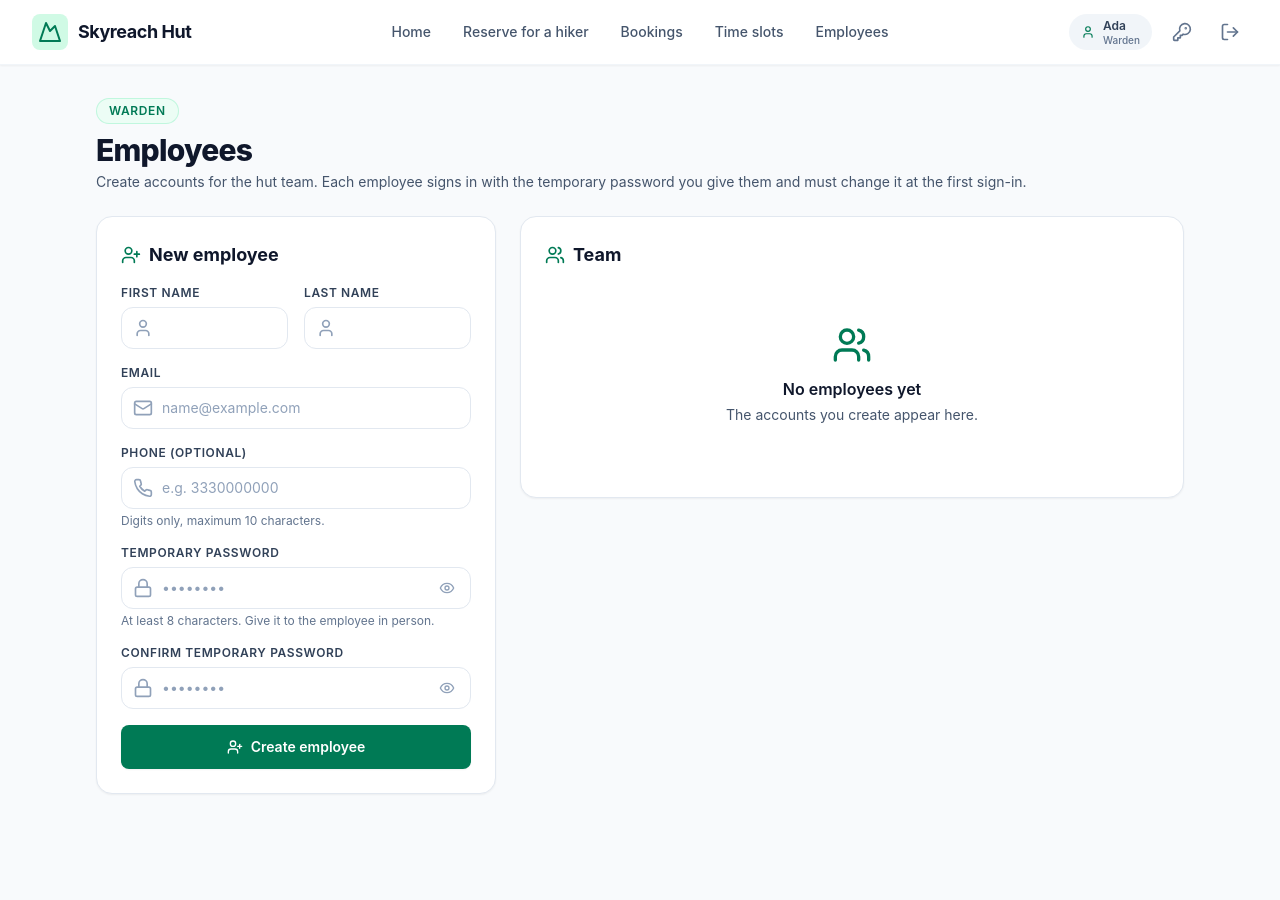
Scenario: creates an employee with trimmed fields and no hiker-only or empty phone fields
Type " Ada " into the field labelled "First name" at (204, 328), box [121, 307, 288, 349]
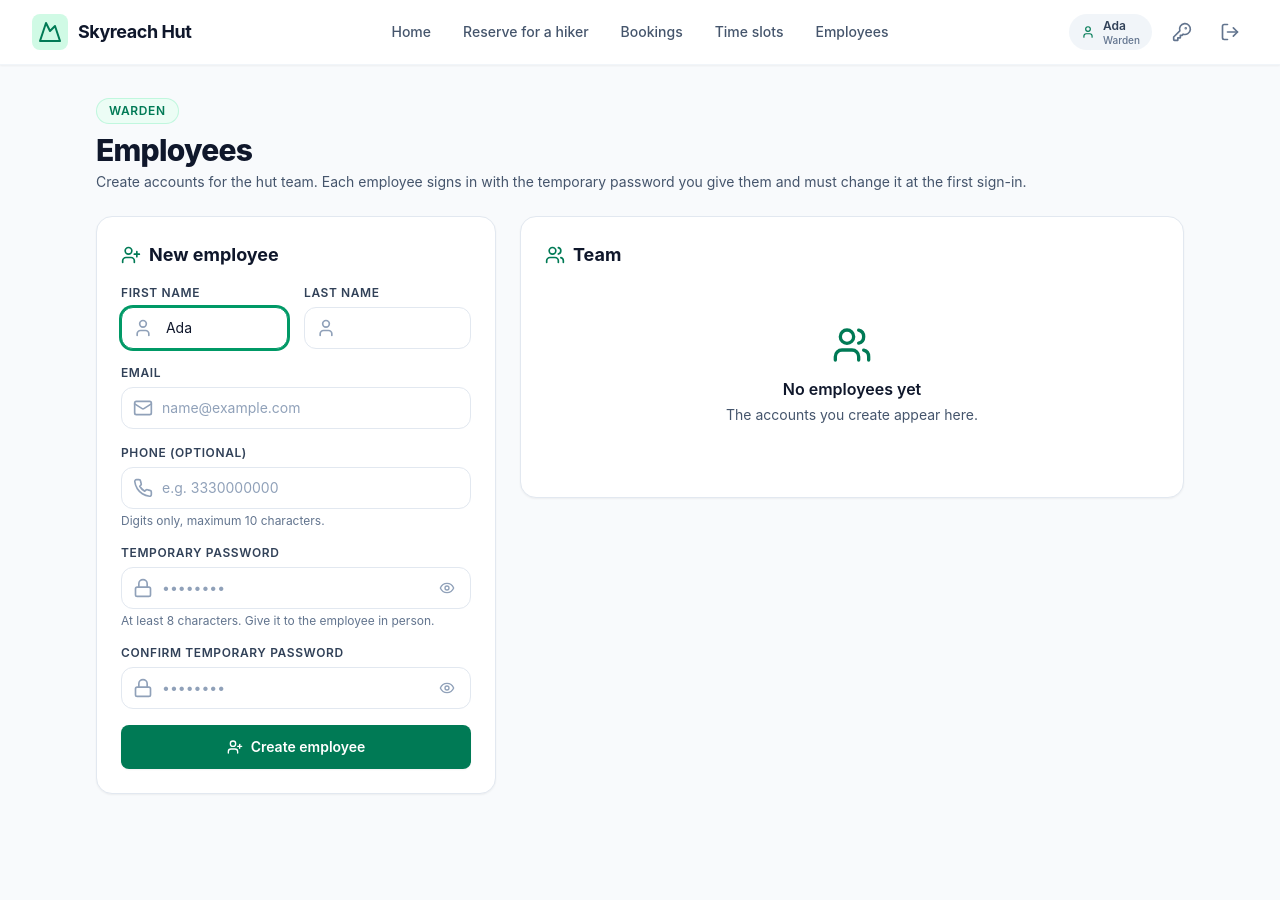
Type " Lovelace " into the field labelled "Last name" at (388, 328), box [304, 307, 471, 349]
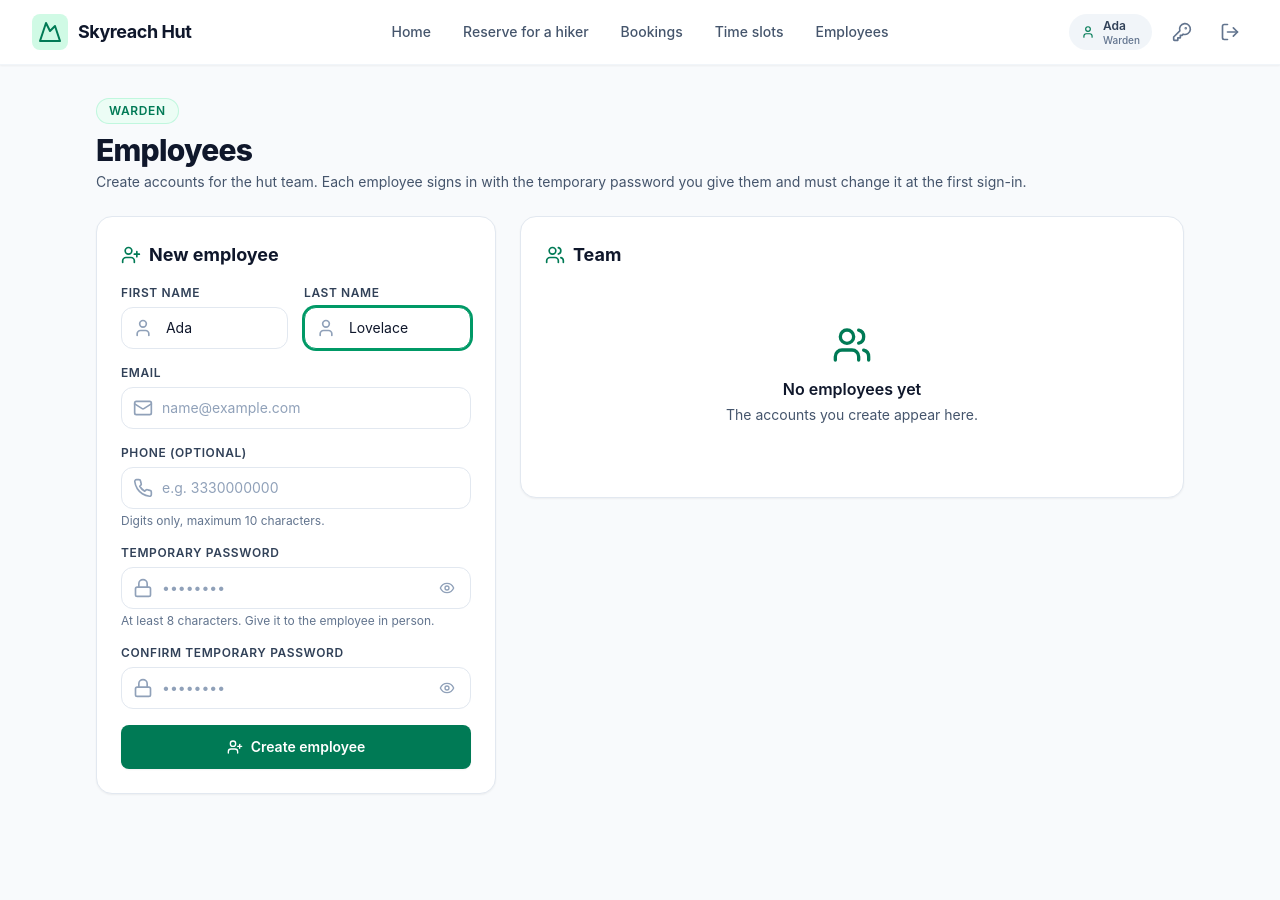
Type "ada@example.com" into the field labelled "Email" at (296, 408), box [121, 387, 471, 429]
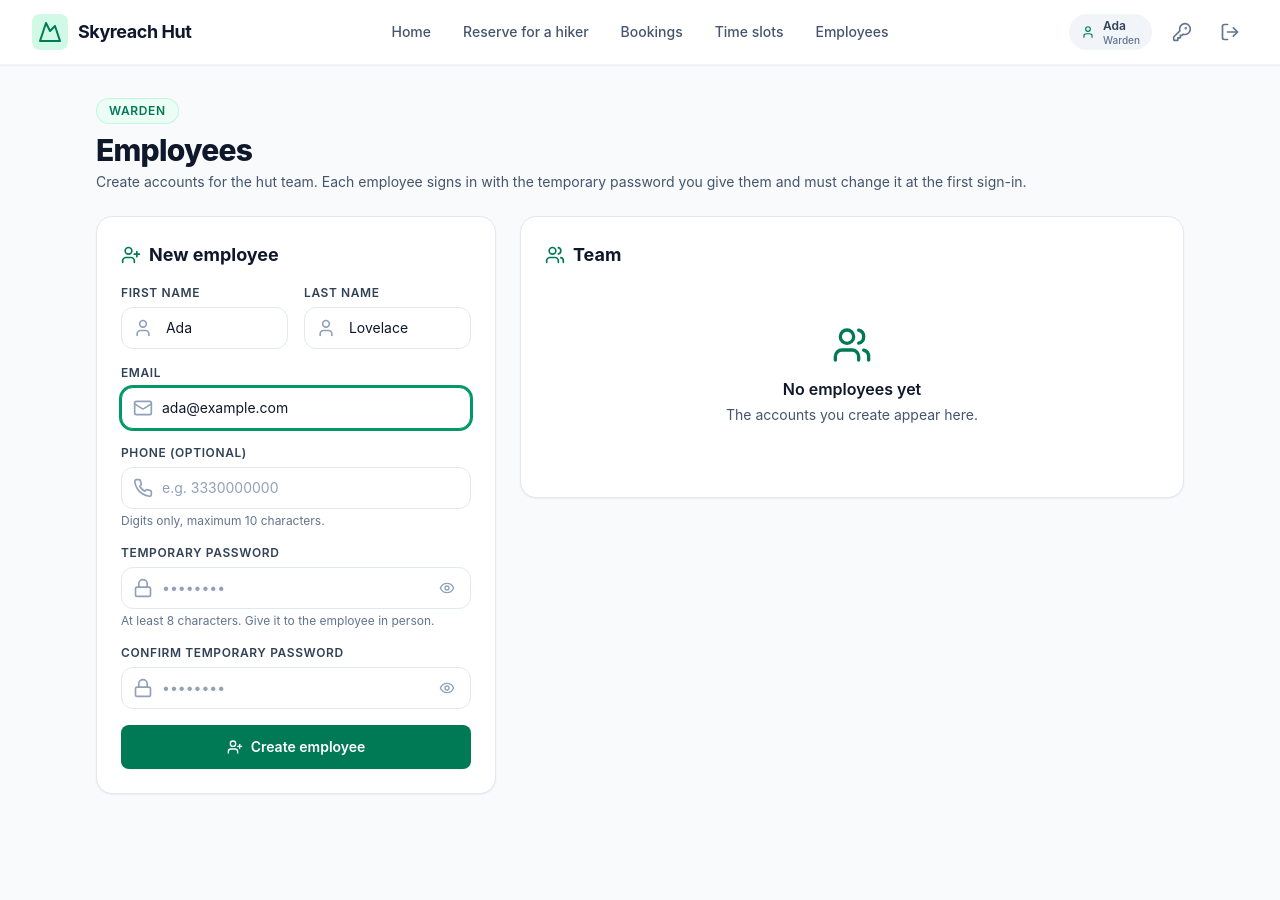
Type "Temporary123!" into the password field labelled "Temporary password" at (296, 588), box [121, 567, 471, 609]
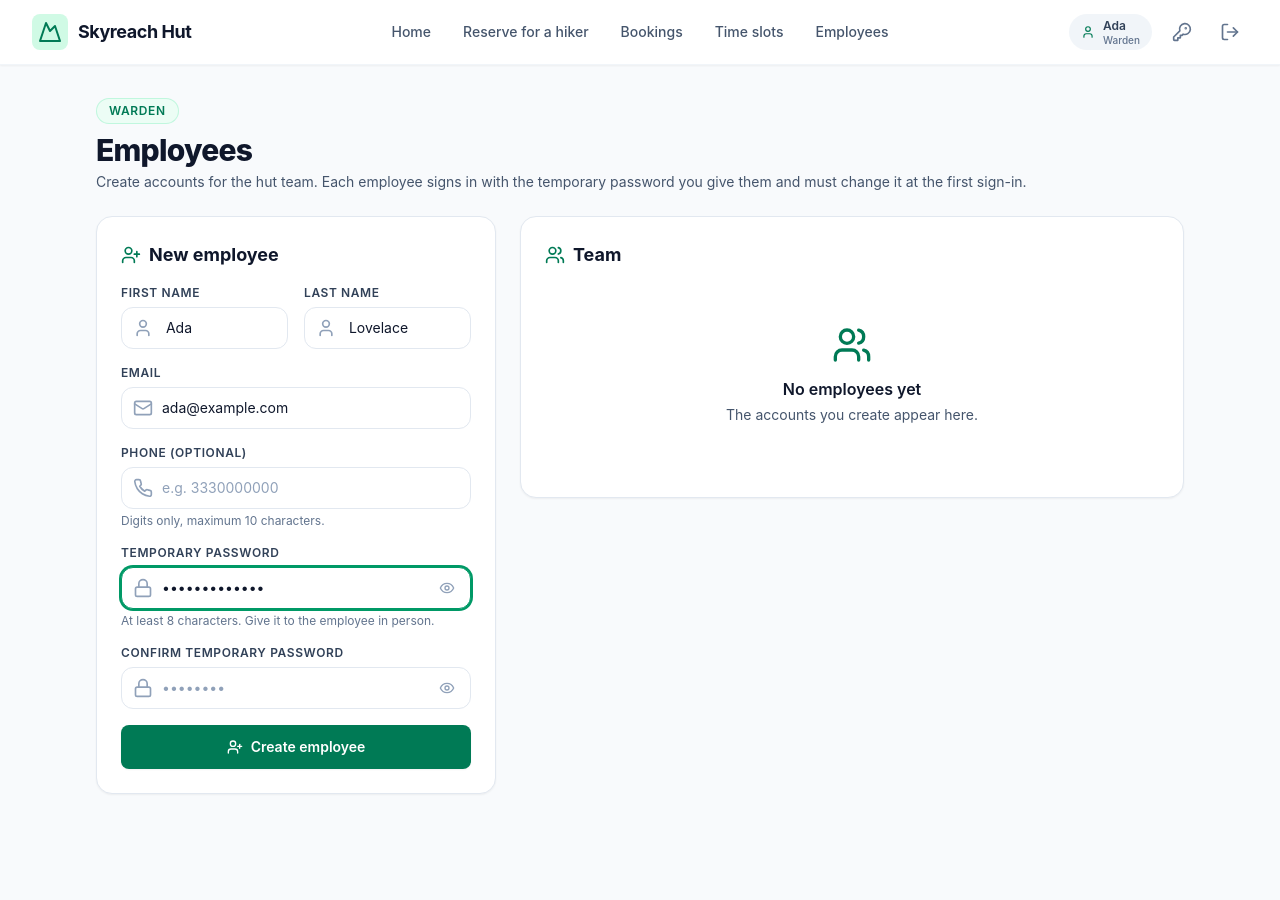
Type "Temporary123!" into the password field labelled "Confirm temporary password" at (296, 688), box [121, 667, 471, 709]
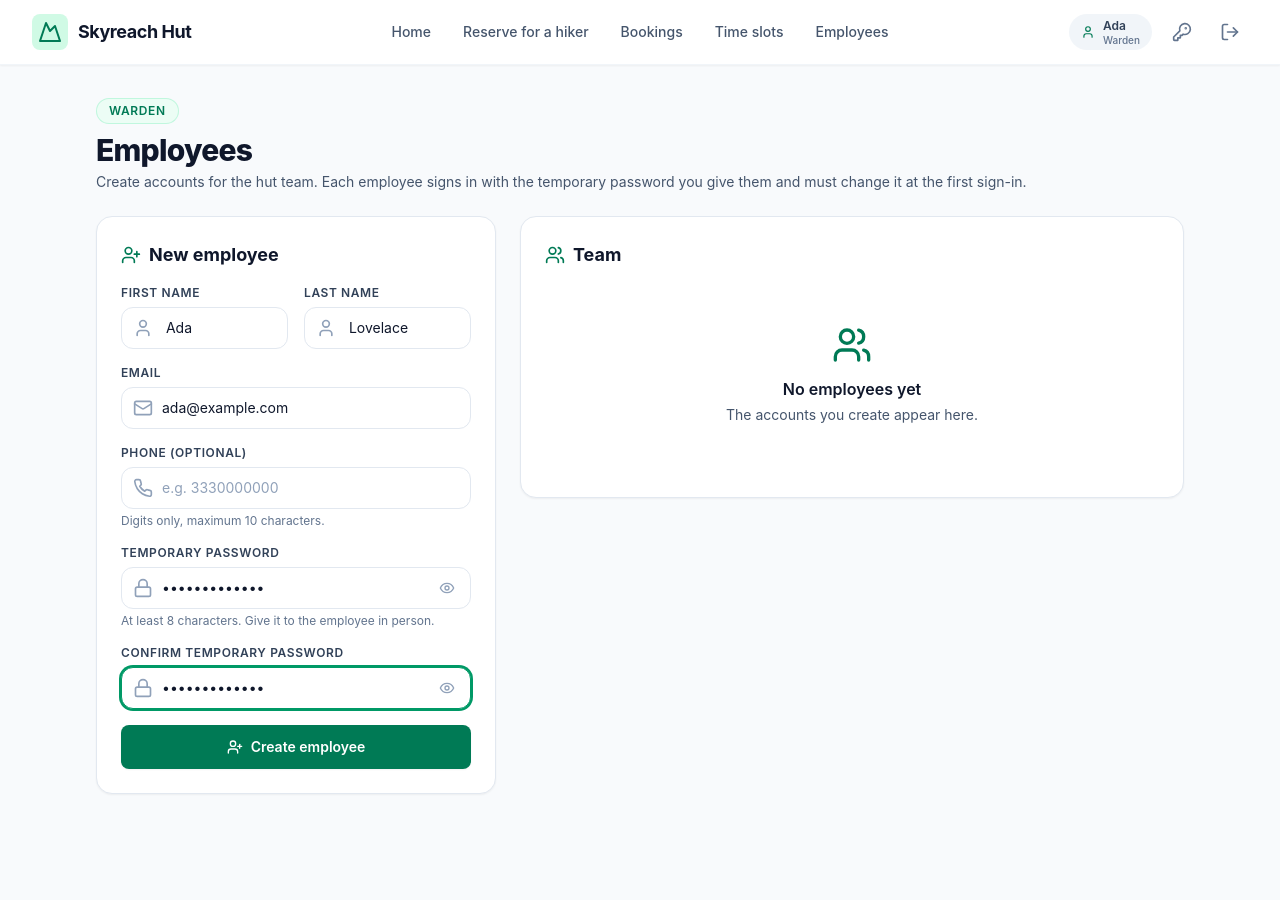
Click the button "Create employee" at (296, 747), box [121, 725, 471, 769]
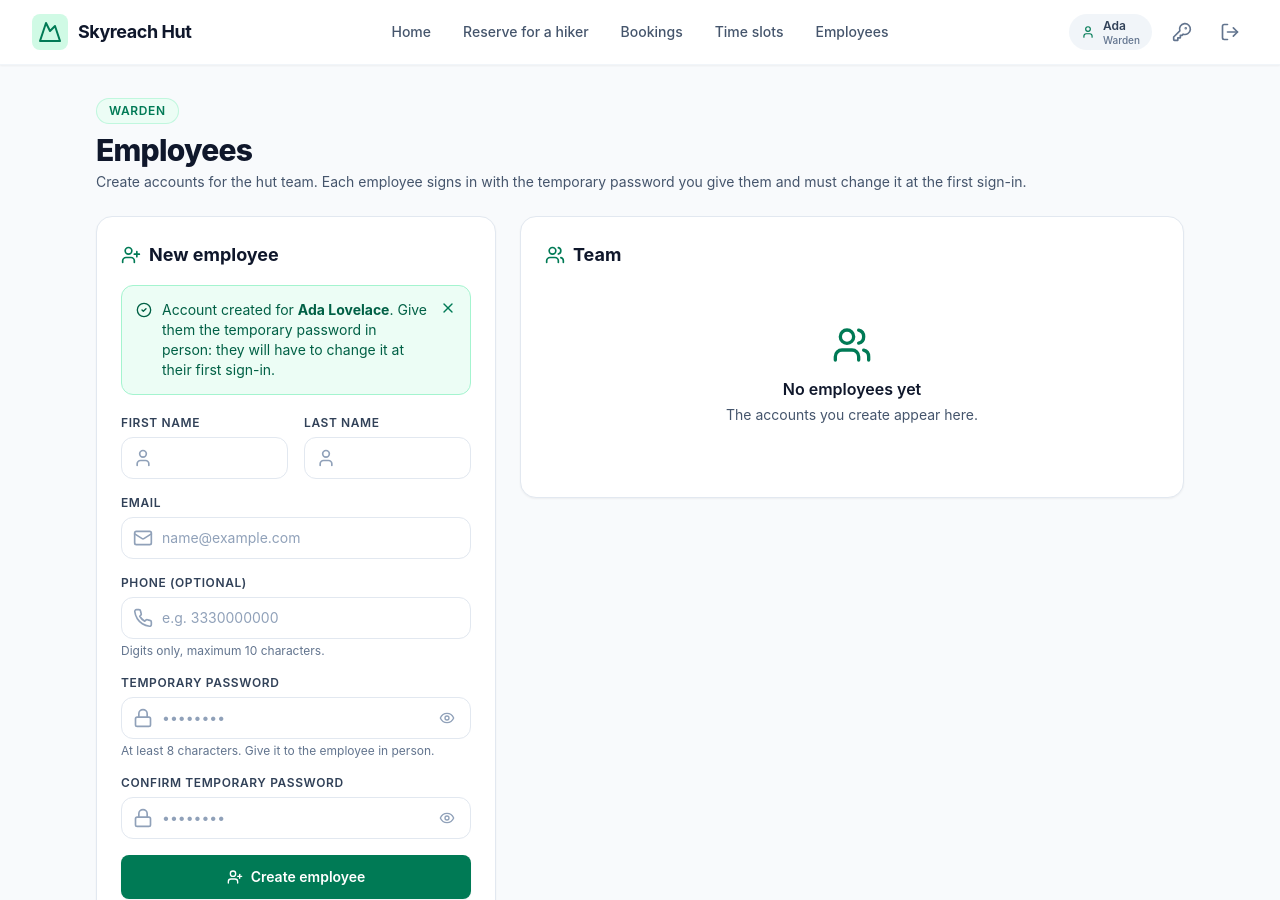
Result: the text "Account created for" is shown at [162, 301, 294, 318]
